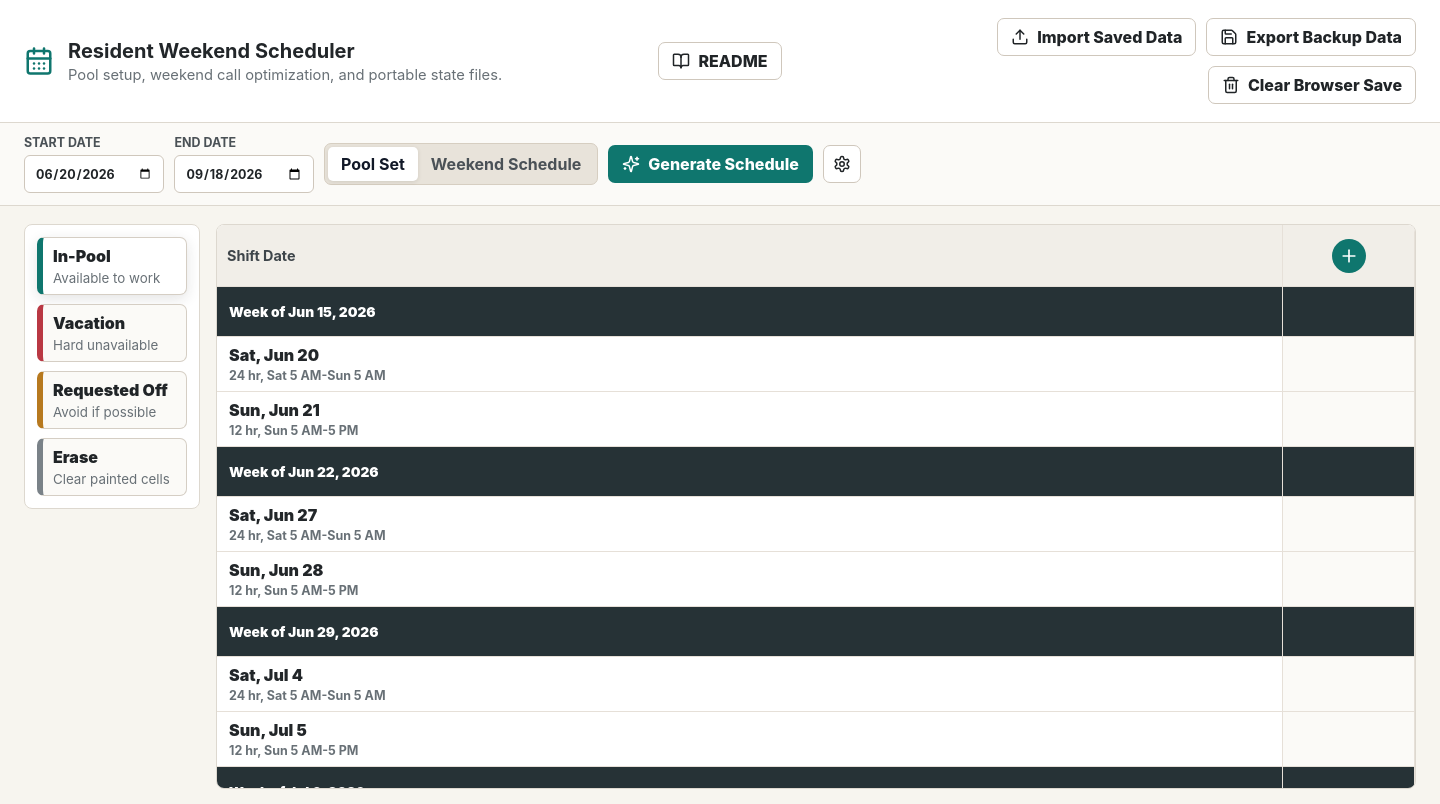
Test: Resident Weekend Scheduler UI › switches to the schedule view
Click the button "Weekend Schedule" at (506, 164), box [418,147,594,181]
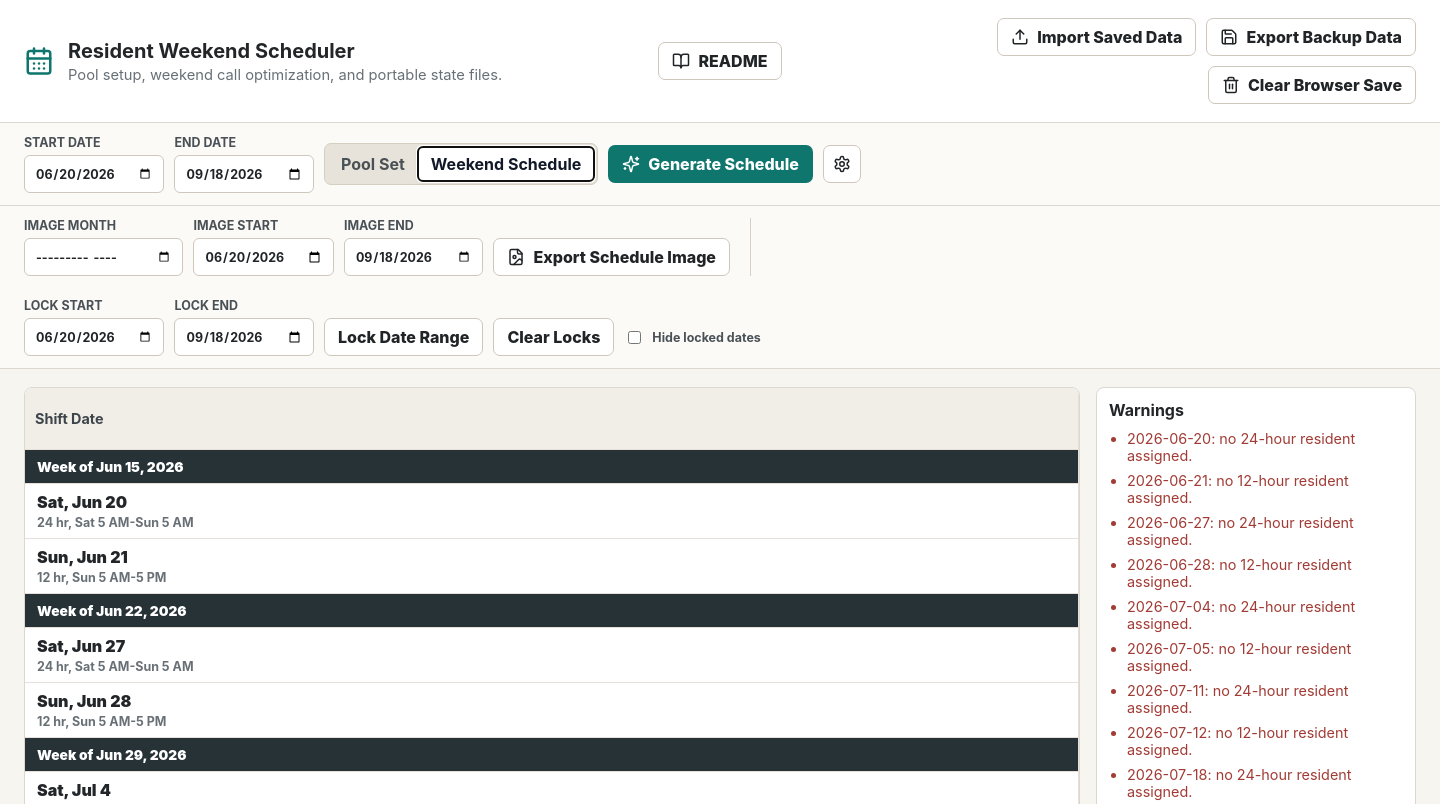
Expected: the heading "Warnings" is shown, [1109,400,1184,420]
